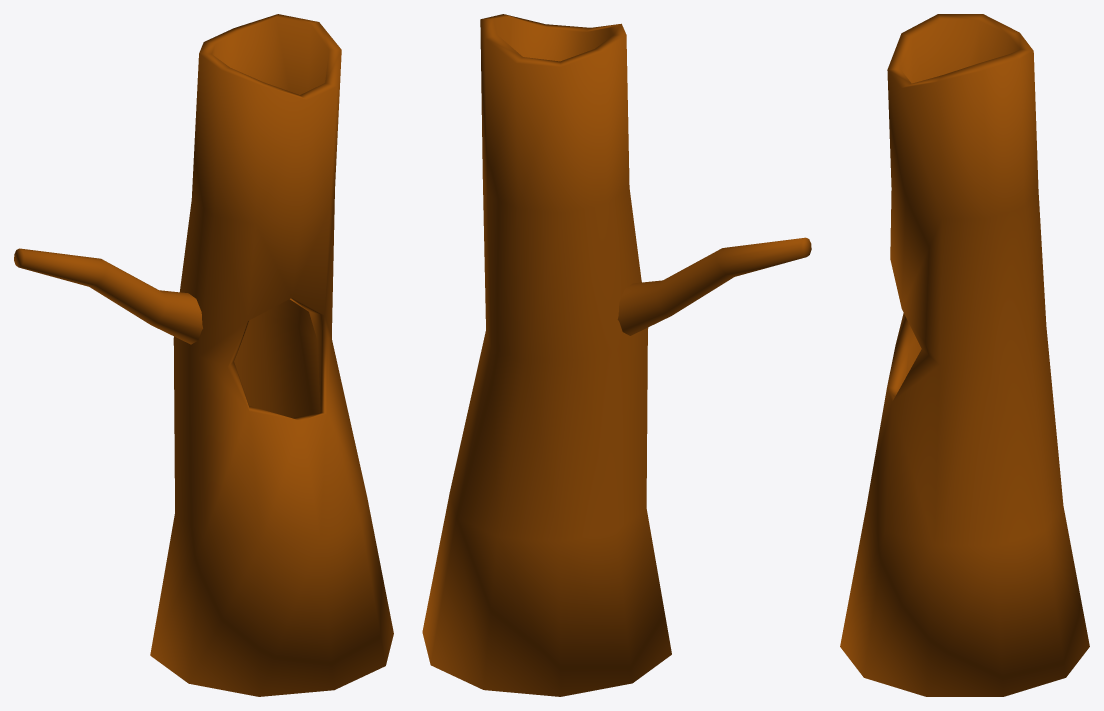
Rendered from baretreeWithHole.obj.
The picture shows the model from 3 angles, left to right: view 1: azimuth 30°, elevation 25°; view 2: azimuth 150°, elevation 25°; view 3: azimuth 270°, elevation 25°; orthographic projection. The views are drawn at different scales.
Size of the model in its own units: 1.3 by 2.09 by 0.782.
